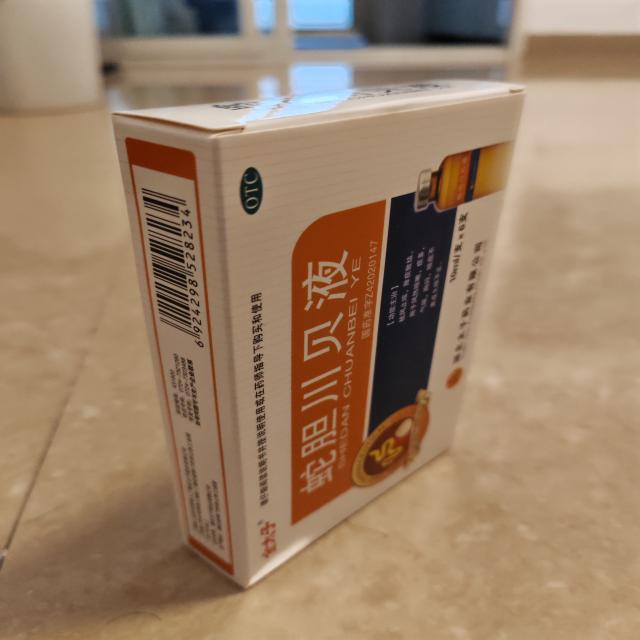box: (106, 74, 539, 595)
